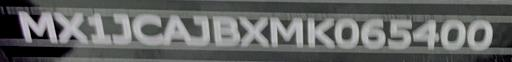letter: (16, 9, 56, 45), (129, 11, 167, 47), (266, 12, 304, 48), (53, 9, 87, 46), (238, 13, 268, 49), (305, 13, 335, 49), (207, 16, 241, 46), (359, 16, 387, 52), (438, 16, 466, 50), (466, 17, 494, 51), (334, 14, 360, 50), (385, 16, 411, 52), (412, 16, 438, 52), (86, 10, 110, 46), (164, 14, 190, 46), (110, 12, 132, 45), (188, 15, 208, 47)
